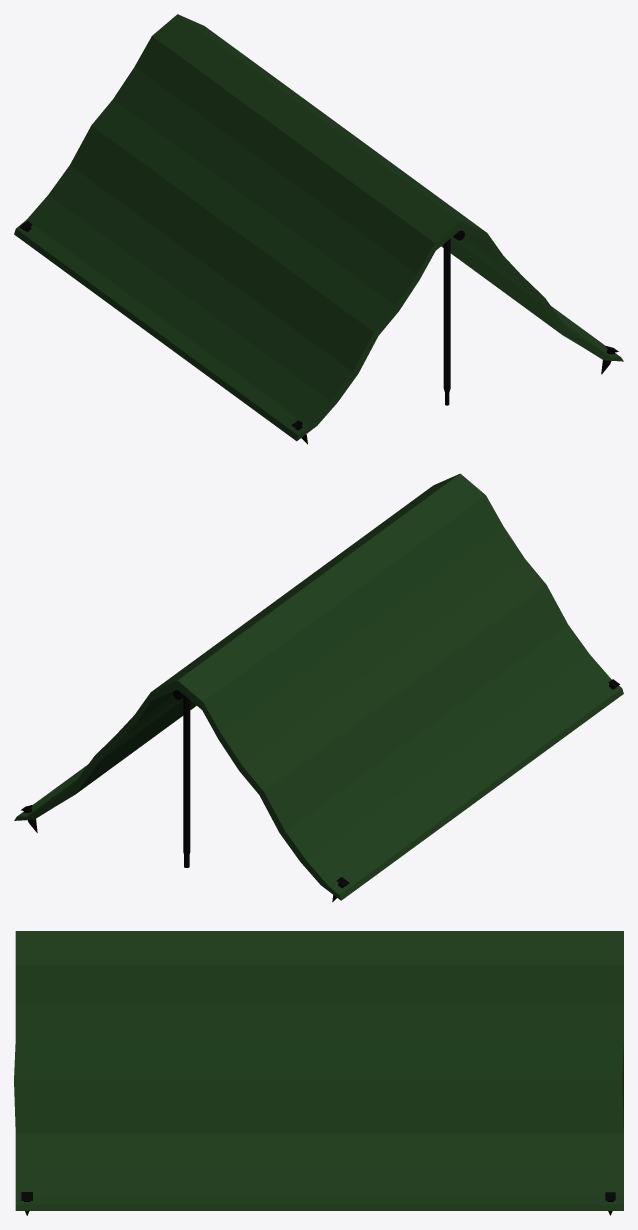
The model's file is Tent.fbx.
3 views of the same model, one above another, from view 1: azimuth 30°, elevation 25°; view 2: azimuth 150°, elevation 25°; view 3: azimuth 270°, elevation 25° (orthographic). The views are drawn at different scales.
Visible parts, largest first — view 1: Cylinder; view 2: Cylinder; view 3: Cylinder.
Boxes of the visible parts, box(x1,y1,x2,y2) form: Cylinder: box(14, 14, 623, 444); Cylinder: box(14, 473, 623, 902); Cylinder: box(14, 931, 623, 1215).
Size of the model in its own units: 1069 by 603 by 1605.
